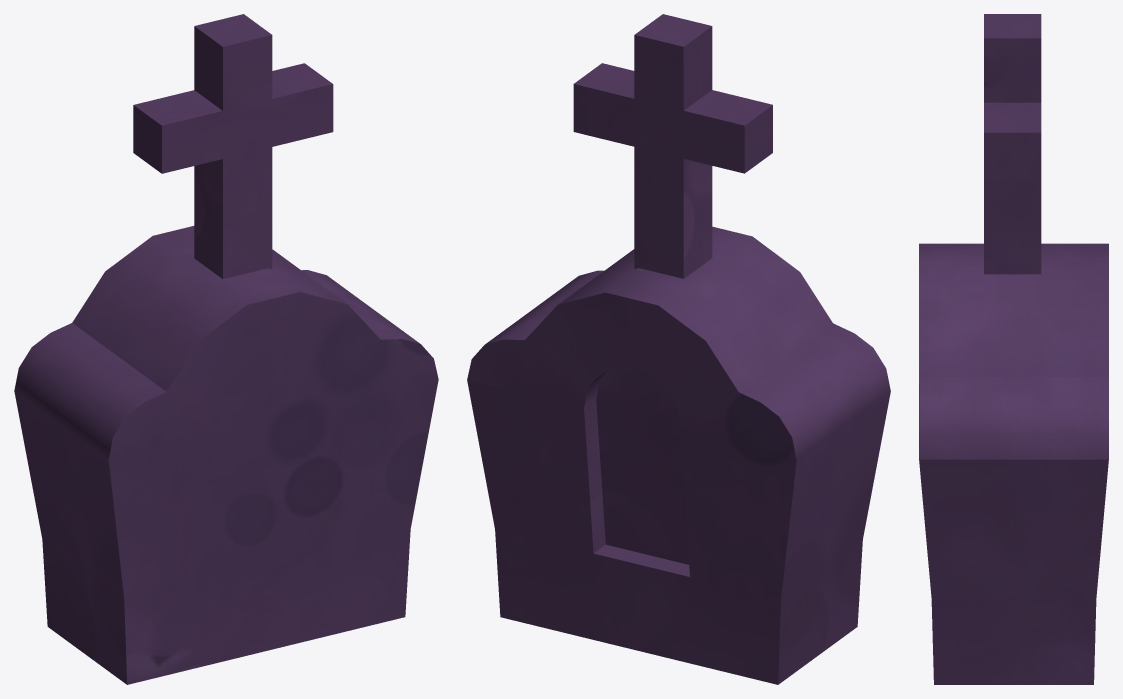
Rendered from tombe2.fbx.
3 renders of one model, left to right at view 1: azimuth 30°, elevation 25°; view 2: azimuth 150°, elevation 25°; view 3: azimuth 270°, elevation 25°, orthographic.
Visible parts, largest first — view 1: pCube2; view 2: pCube2; view 3: pCube2.
Part boxes in pixels (bbox=[...]): pCube2: bbox=[14, 14, 438, 684]; pCube2: bbox=[467, 14, 890, 684]; pCube2: bbox=[919, 14, 1108, 684].
Size of the model in its own units: 4.21 by 7.2 by 2.09.
